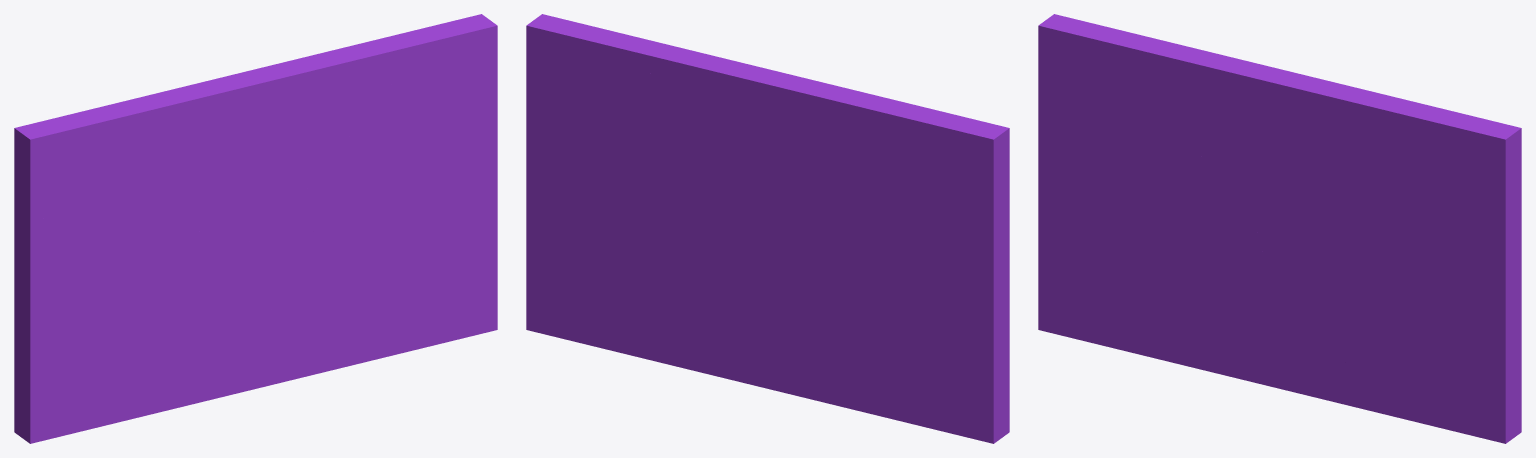
The model's file is Barrier_128_chunks.fbx.
3 views of the same model, side by side, from view 1: azimuth 30°, elevation 25°; view 2: azimuth 150°, elevation 25°; view 3: azimuth 330°, elevation 25° (orthographic).
Visible parts, largest first — view 1: Barrier_128_2, Barrier_128_0, Barrier_128_3, Barrier_128_4, Barrier_128_6, Barrier_128_1, Barrier_128_5; view 2: Barrier_128_2, Barrier_128_0, Barrier_128_3, Barrier_128_6, Barrier_128_4; view 3: Barrier_128_2, Barrier_128_0, Barrier_128_4, Barrier_128_3, Barrier_128_6, Barrier_128_1, Barrier_128_5.
Part boxes in pixels (bbox=[...]): Barrier_128_2: bbox=[304, 14, 497, 366]; Barrier_128_0: bbox=[14, 202, 294, 443]; Barrier_128_3: bbox=[14, 105, 196, 230]; Barrier_128_4: bbox=[190, 39, 423, 235]; Barrier_128_6: bbox=[107, 36, 404, 151]; Barrier_128_1: bbox=[248, 193, 347, 379]; Barrier_128_5: bbox=[103, 109, 226, 192]; Barrier_128_2: bbox=[526, 14, 764, 376]; Barrier_128_0: bbox=[720, 206, 1009, 443]; Barrier_128_3: bbox=[818, 109, 1009, 226]; Barrier_128_6: bbox=[616, 38, 910, 172]; Barrier_128_4: bbox=[615, 32, 825, 231]; Barrier_128_2: bbox=[1312, 106, 1521, 443]; Barrier_128_0: bbox=[1038, 104, 1302, 394]; Barrier_128_4: bbox=[1198, 112, 1432, 227]; Barrier_128_3: bbox=[1038, 14, 1204, 194]; Barrier_128_6: bbox=[1137, 36, 1431, 133]; Barrier_128_1: bbox=[1256, 213, 1355, 407]; Barrier_128_5: bbox=[1112, 43, 1234, 159].
Bounding box in the file's own units: 462 × 288 × 27.2.
